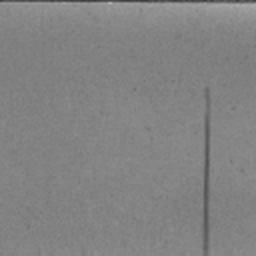Scratches: (202, 88, 210, 256), (0, 0, 256, 3)
